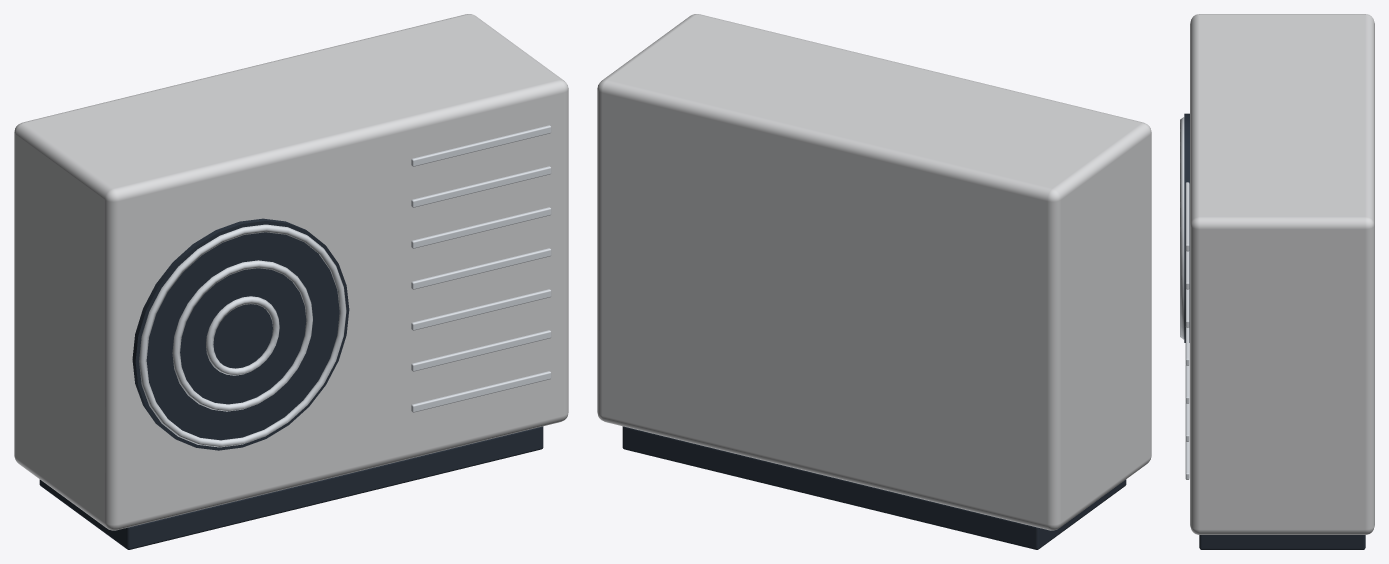
Rendered from outdoor-s.glb.
3 renders of one model, left to right at view 1: azimuth 30°, elevation 25°; view 2: azimuth 150°, elevation 25°; view 3: azimuth 270°, elevation 25°, orthographic. The views are drawn at different scales.
Size of the model in its own units: 0.78 by 0.59 by 0.3057.
